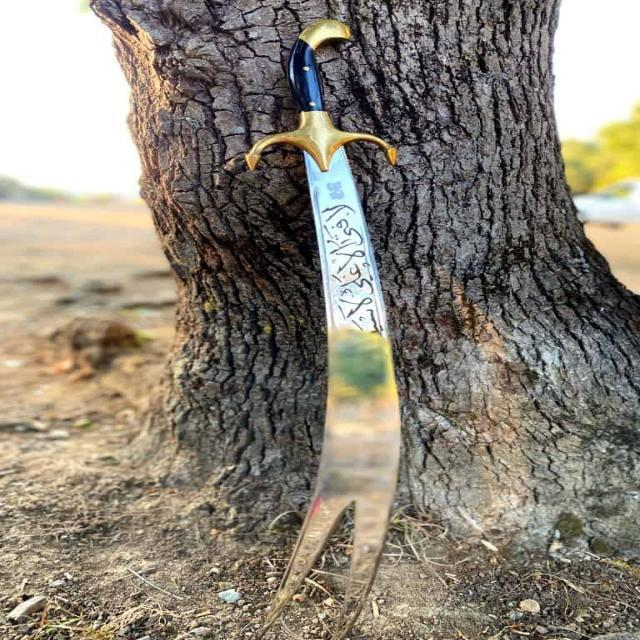cutlass: (268, 17, 422, 626)
